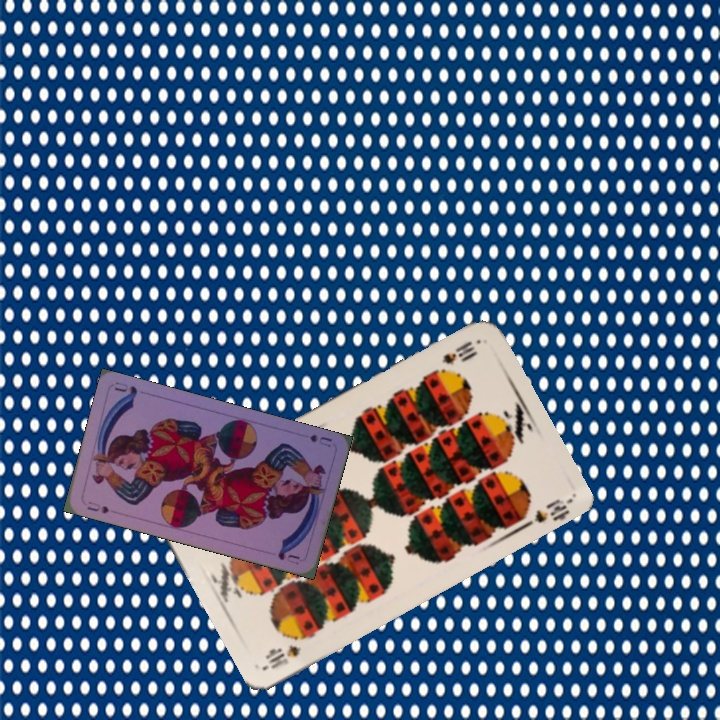S10: (261, 640, 304, 672), (437, 336, 479, 367)
SU: (306, 430, 334, 450), (83, 497, 112, 516)
